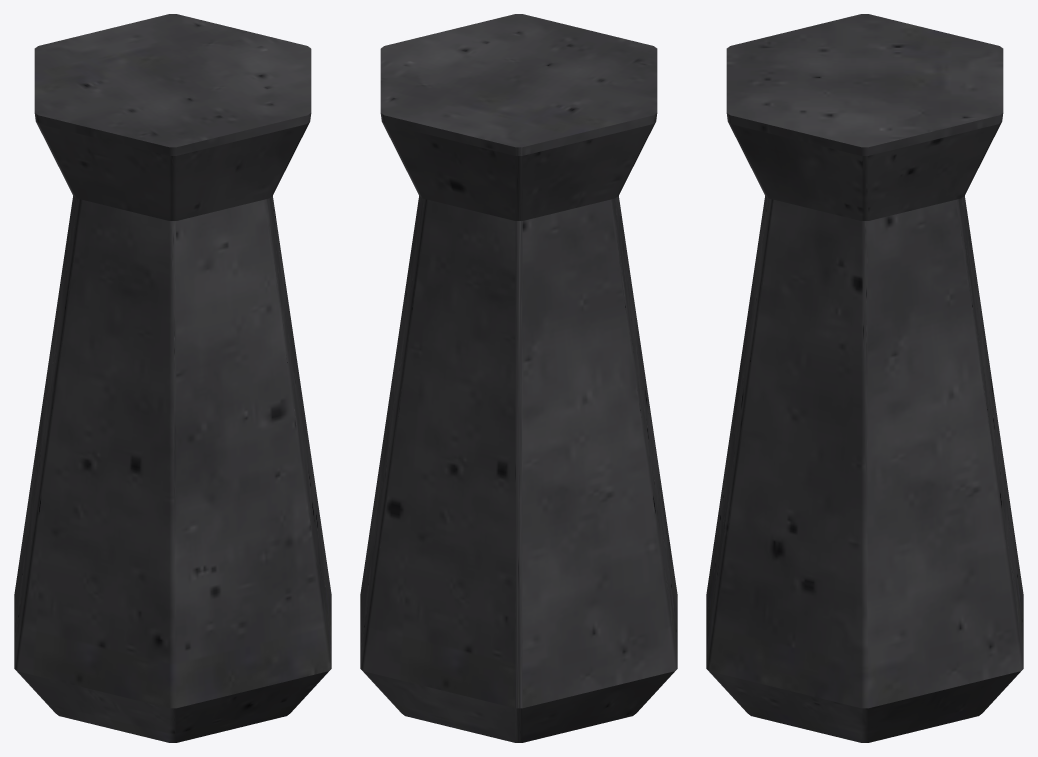
Rendered from hexalith_black_rook.glb.
3 views of the same model, side by side, from view 1: azimuth 30°, elevation 25°; view 2: azimuth 150°, elevation 25°; view 3: azimuth 270°, elevation 25° (orthographic).
Parts seen in each view (by area): view 1: HEXALITH_black_rook; view 2: HEXALITH_black_rook; view 3: HEXALITH_black_rook.
Part boxes in pixels (x1,y1,x2,y2): HEXALITH_black_rook: (14, 14, 331, 742); HEXALITH_black_rook: (360, 14, 677, 742); HEXALITH_black_rook: (706, 14, 1023, 742).
Bounding box in the file's own units: 0.0307 × 0.0566 × 0.0268.
Materials: 1 (1 with a texture image).
